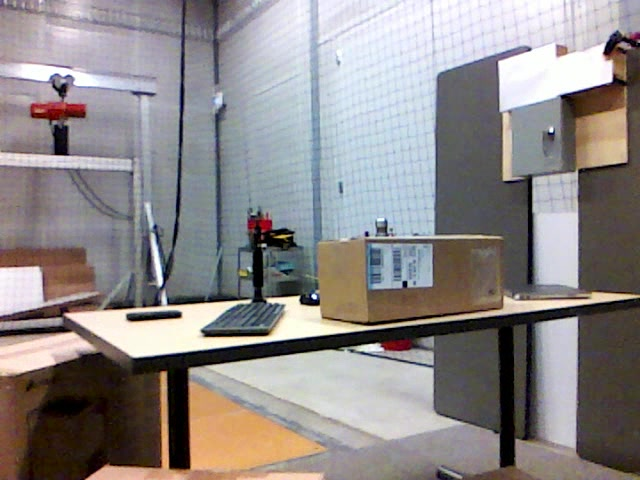box: (1, 334, 162, 480), (316, 235, 504, 323)
